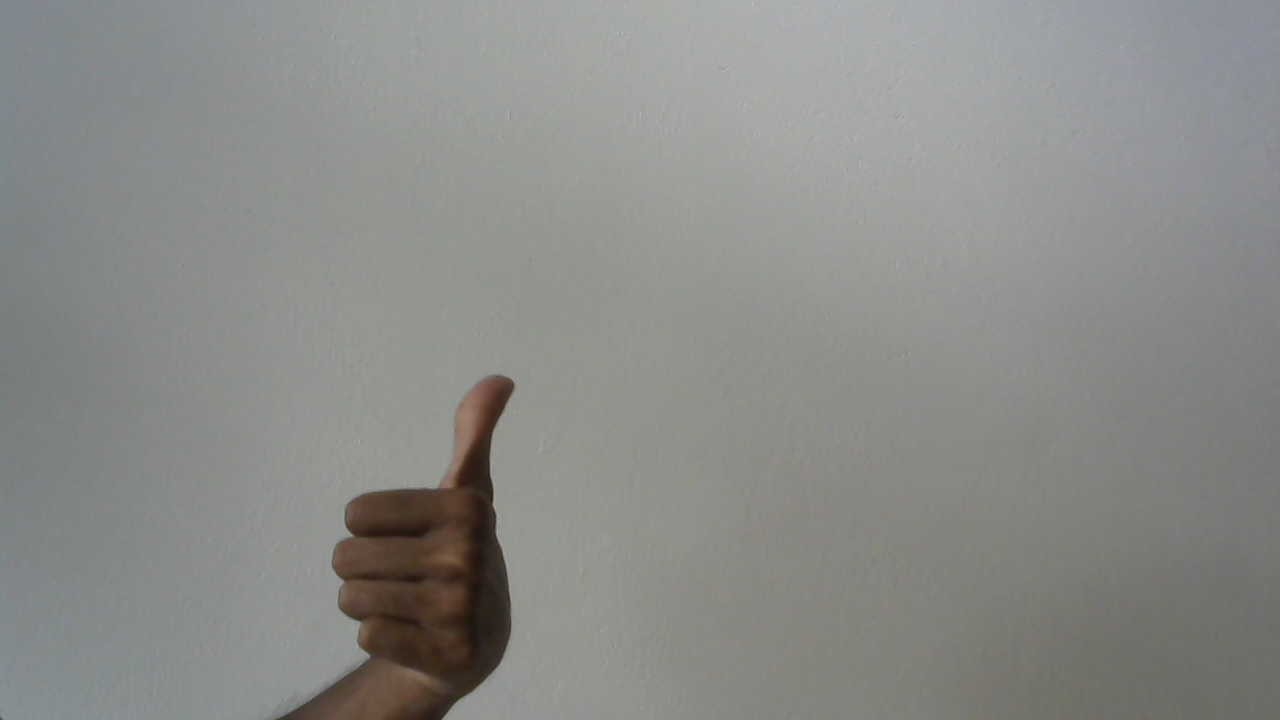thumbsup: (317, 364, 542, 695)
